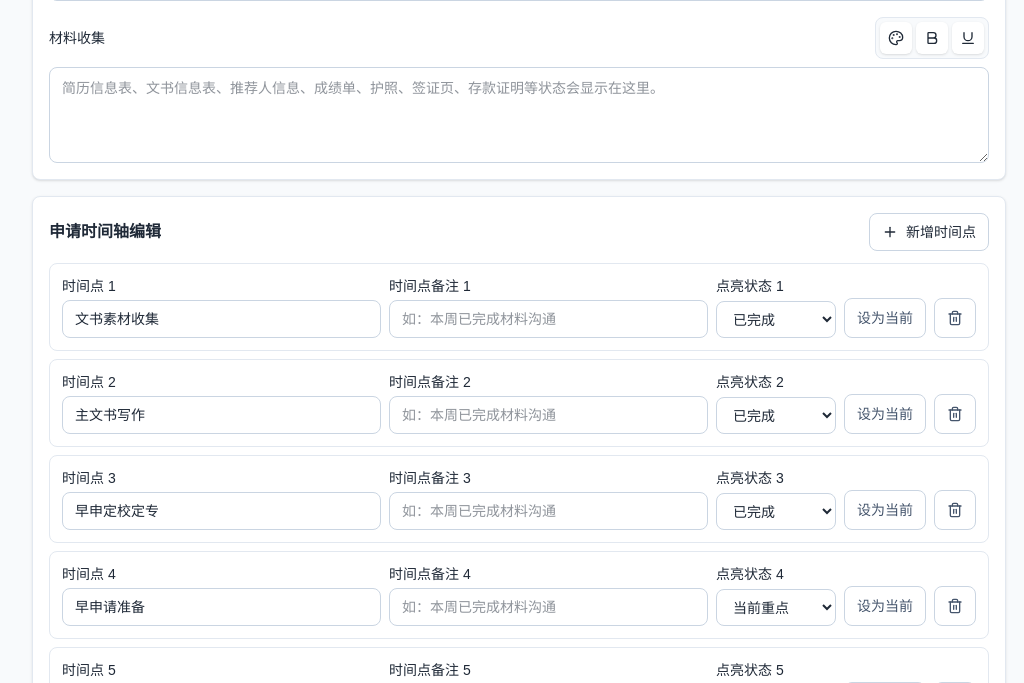
Test: monthly reports page › shows timeline notes as bubbles above each node
(page scrolled)
In the field labelled "时间点备注 1": (548, 319) [389, 300, 708, 338], type "本周已完成材料沟通"
(page scrolled)
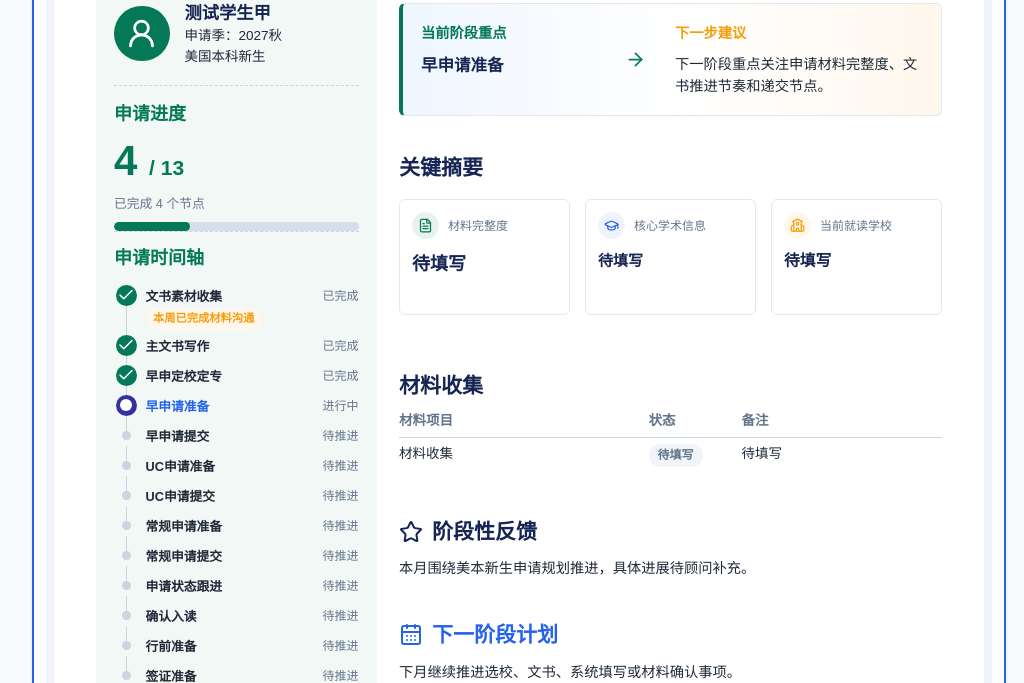
Expected: the list item with test id "timeline-node-0" shows "本周已完成材料沟通", [153, 312, 254, 324]
